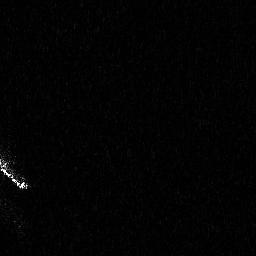ship: (1, 150, 32, 189)
